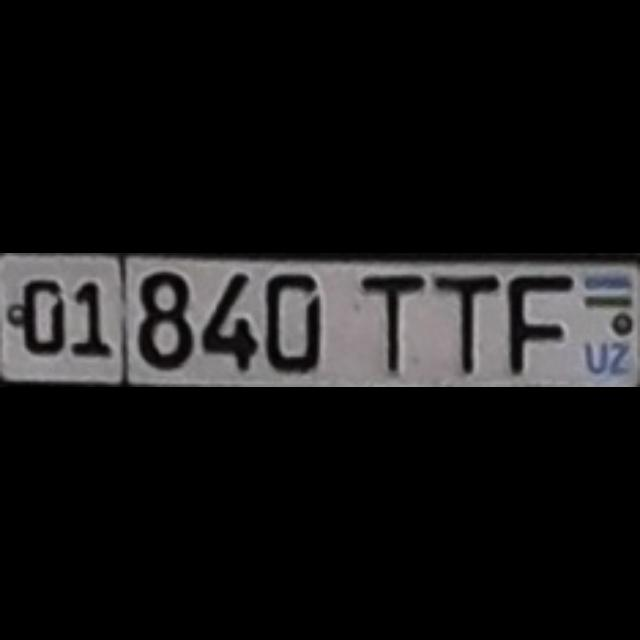0: (262, 270, 318, 370), (19, 278, 63, 352)
1: (66, 278, 106, 354)
4: (198, 270, 255, 368)
8: (132, 266, 188, 368)
F: (503, 272, 569, 373)
T: (432, 272, 498, 370), (358, 270, 422, 368)
